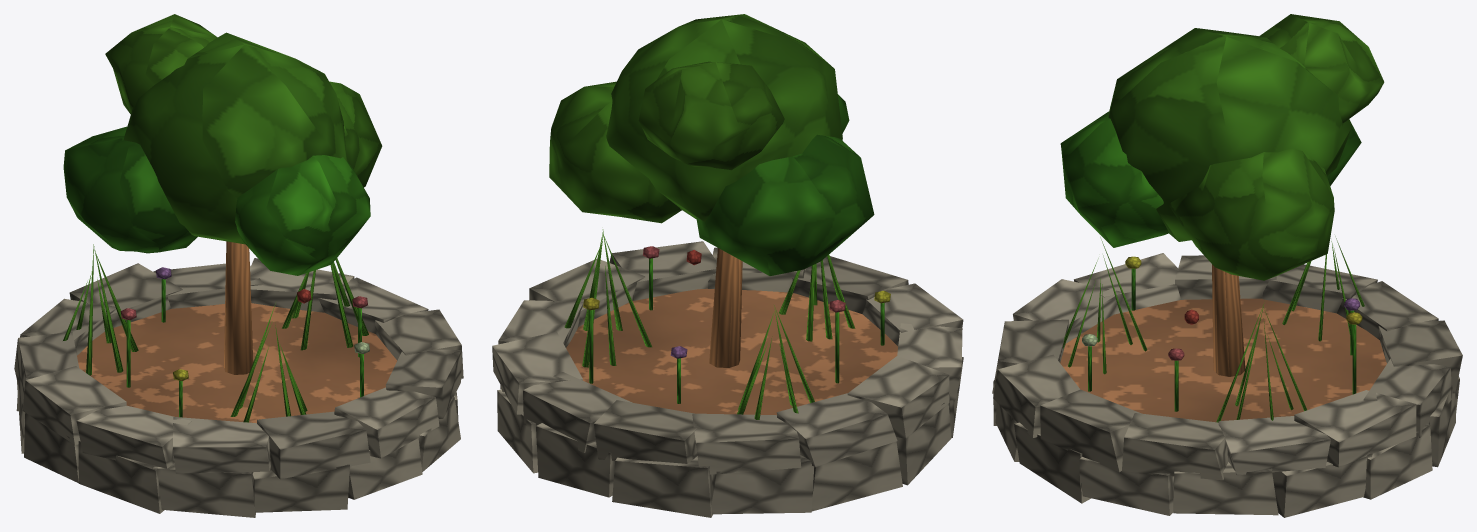
File: garden_planter_b.glb
The picture shows the model from 3 angles, left to right: view 1: azimuth 30°, elevation 25°; view 2: azimuth 150°, elevation 25°; view 3: azimuth 270°, elevation 25°; orthographic projection. The views are drawn at different scales.
Visible parts, largest first — view 1: garden_planter_b; view 2: garden_planter_b; view 3: garden_planter_b.
Boxes of the visible parts, x1,y1,x2,y2 form: garden_planter_b: (14,14,463,517); garden_planter_b: (492,14,963,517); garden_planter_b: (992,14,1462,517).
Bounding box in the file's own units: 2.73 × 2.56 × 2.77.
4 materials, 4 textured.
